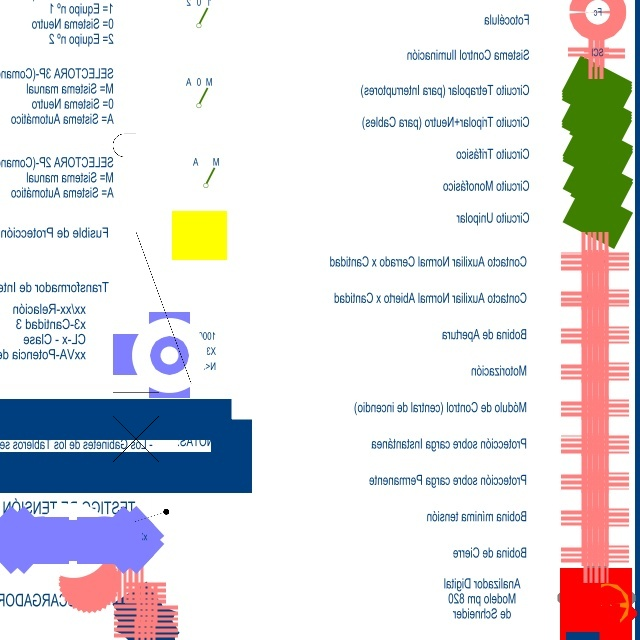interruptor_termomagnetico: (103, 95, 201, 494)
